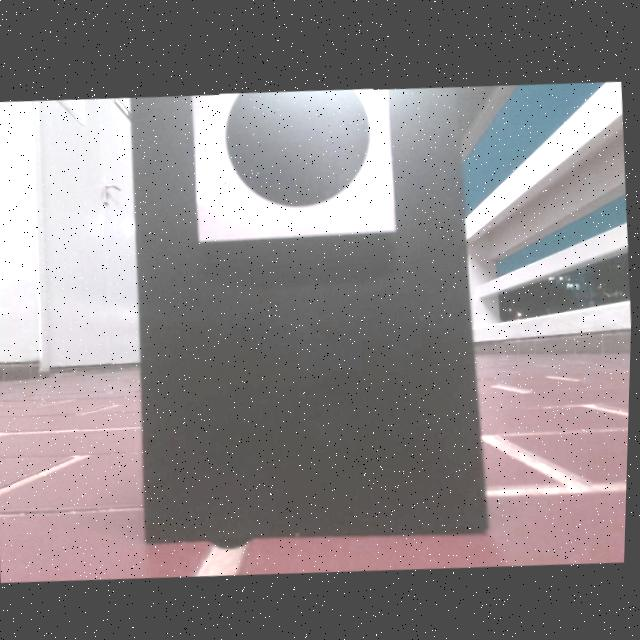CIRCLE: (221, 87, 376, 212)
